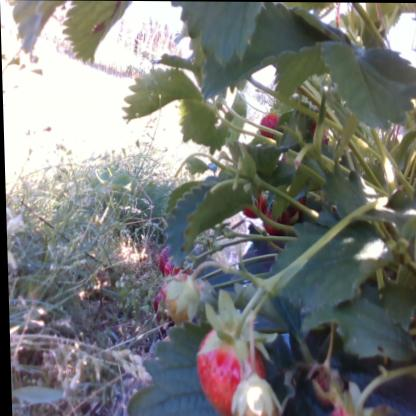ripe: (194, 315, 270, 408), (157, 238, 197, 287)
